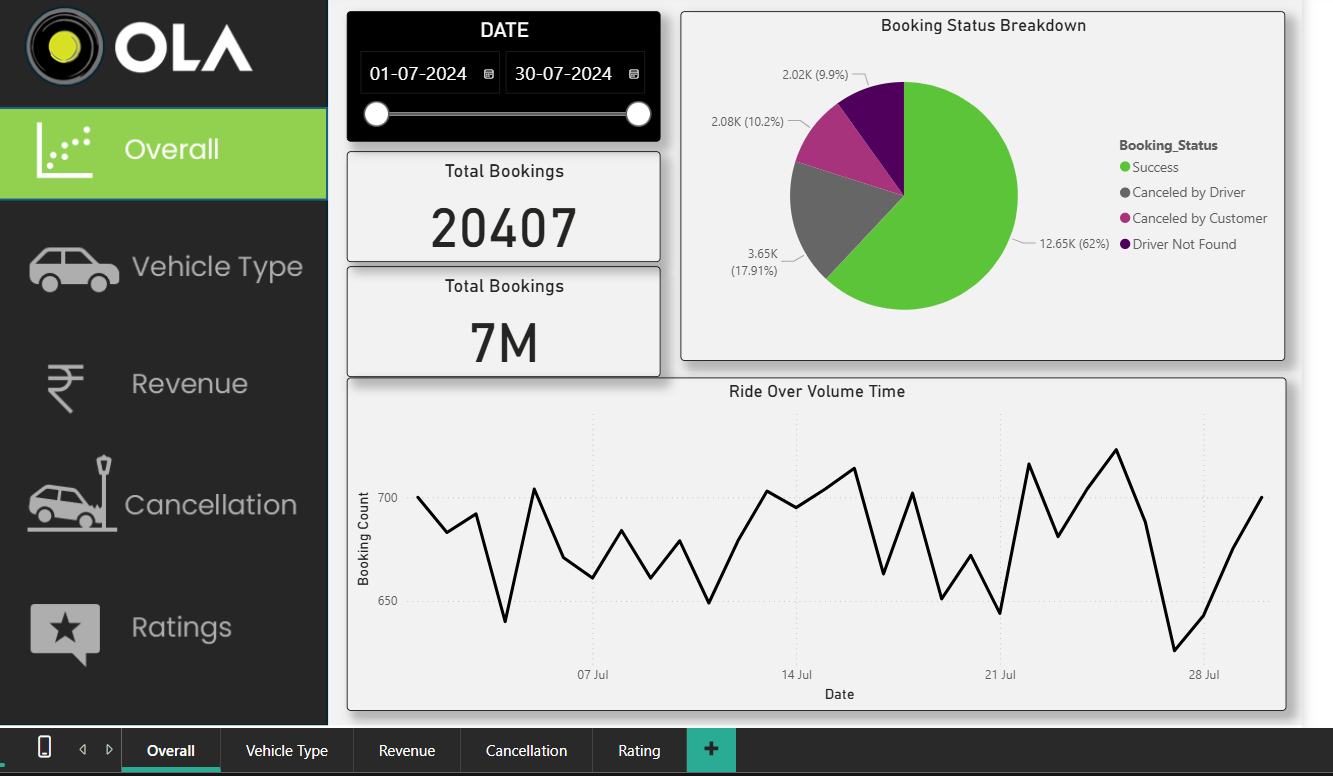

The page's visual inventory and layout, read from the dashboard file:
{"tool":"powerbi","page":{"name":"Overall","canvas":[1280,720],"ordinal":0},"visuals":[{"type":"actionButton","box":[0,214.7,323.9,95.7],"z":0},{"type":"actionButton","box":[0,108,323.9,92],"z":1000},{"type":"actionButton","box":[4.9,341.1,312.9,87.1],"z":2000},{"type":"actionButton","box":[6.1,447.9,312.9,96.9],"z":3000},{"type":"actionButton","box":[6.1,580.4,311.7,90.8],"z":4000},{"type":"lineChart","title":"Ride Over Volume Time","fields":{"Y":["CountNonNull(July.Booking_ID)"],"Category":["July.Date"]},"box":[341.9,375.6,922.2,327.1],"z":5000},{"type":"pieChart","title":"Booking Status Breakdown","fields":{"Category":["July.Booking_Status"],"Y":["CountNonNull(July.Booking_Status)"]},"box":[670.4,16.2,593.7,343.3],"z":6000},{"type":"slicer","title":"DATE","fields":{"Values":["July.Date"]},"box":[341.9,16.2,308.3,127.9],"z":7000},{"type":"card","title":"Total Bookings","fields":{"Values":["CountNonNull(July.Booking_ID)"]},"box":[341.9,153.5,308.3,109],"z":8000},{"type":"card","title":"Total Bookings","fields":{"Values":["Sum(July.Booking_Value)"]},"box":[341.9,266.6,308.3,109],"z":9000}]}

Visuals, with their boxes on the page's 1280x720 design canvas (x1, y1, x2, y2). These are canvas units, not pixel positions in the 1333x776 screenshot, which may show the page scaled, cropped or inside an application window:
actionButton: (0, 215, 324, 310)
actionButton: (0, 108, 324, 200)
actionButton: (5, 341, 318, 428)
actionButton: (6, 448, 319, 545)
actionButton: (6, 580, 318, 671)
"Ride Over Volume Time" lineChart: (342, 376, 1264, 703)
"Booking Status Breakdown" pieChart: (670, 16, 1264, 360)
"DATE" slicer: (342, 16, 650, 144)
"Total Bookings" card: (342, 154, 650, 262)
"Total Bookings" card: (342, 267, 650, 376)
